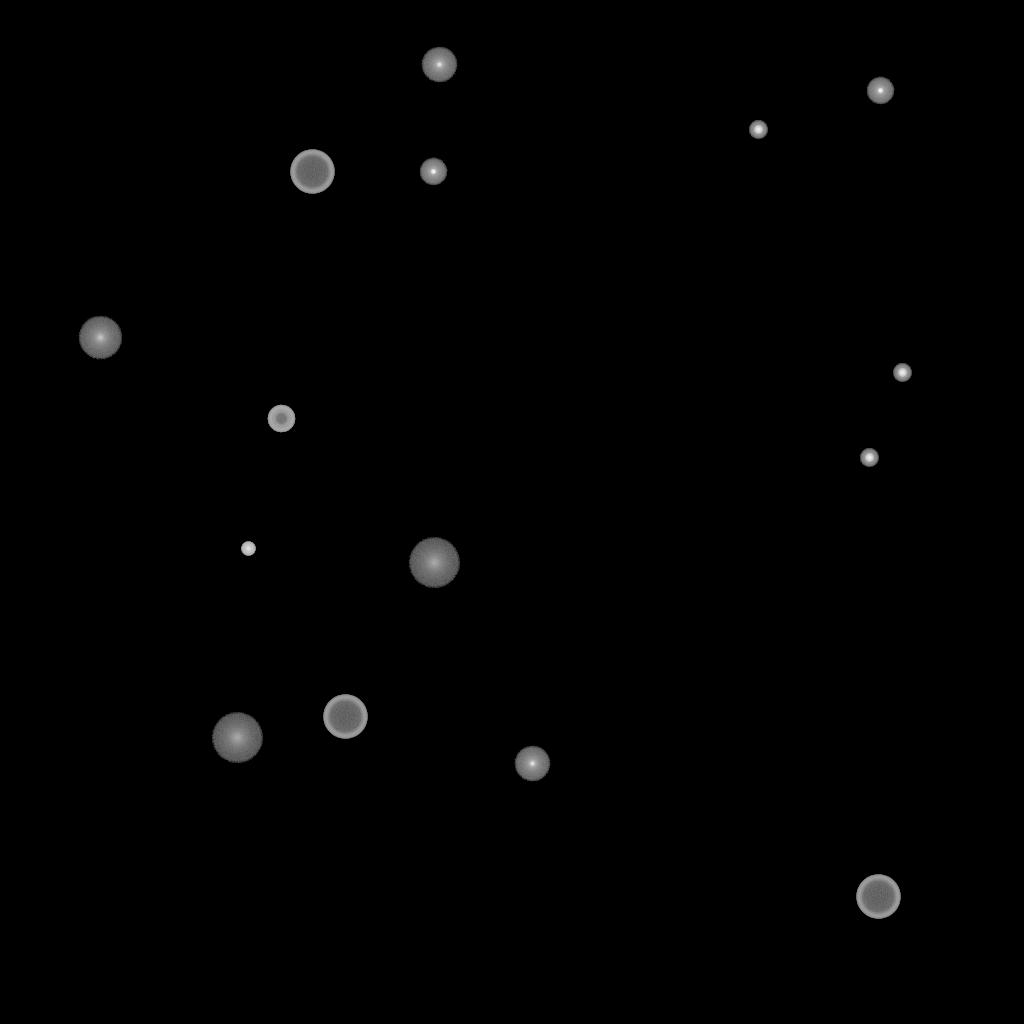depth:-10: (866, 77, 894, 105), (419, 158, 447, 186)
depth:-20: (893, 364, 911, 382), (860, 449, 878, 467), (749, 121, 767, 139)
depth:-30: (241, 542, 255, 556)
depth:-50: (267, 405, 295, 433)
depth:-70: (290, 150, 334, 194), (856, 875, 900, 919), (323, 695, 367, 739)
depth:0: (421, 47, 457, 83), (514, 746, 550, 782)
depth:10: (78, 316, 122, 360)
depth:20: (408, 538, 460, 588), (211, 713, 263, 763)
